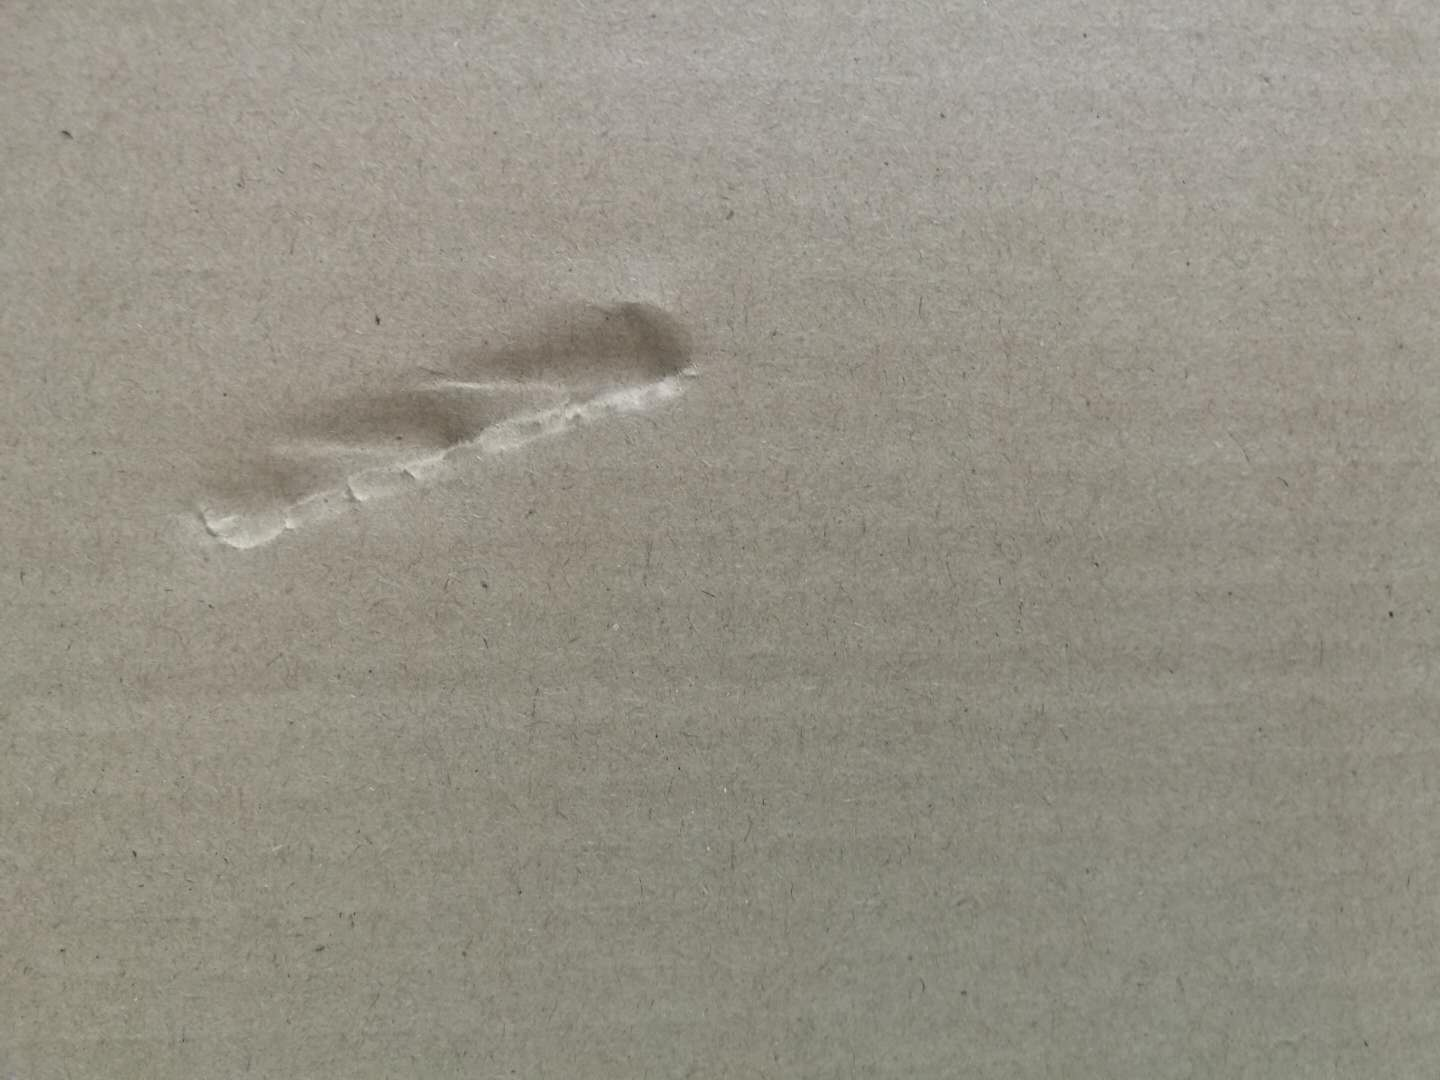defect: (168, 264, 734, 582)
